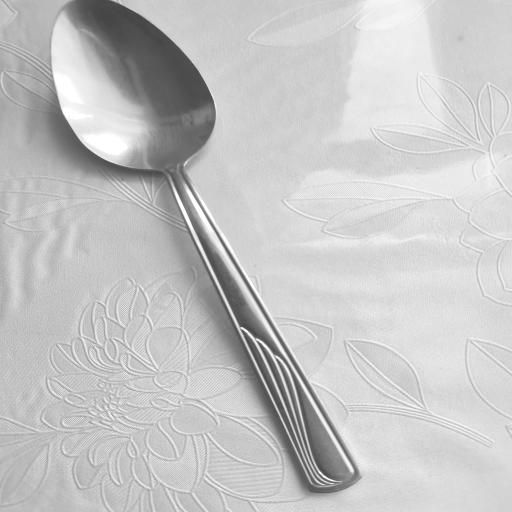spoon: (52, 0, 360, 492)
